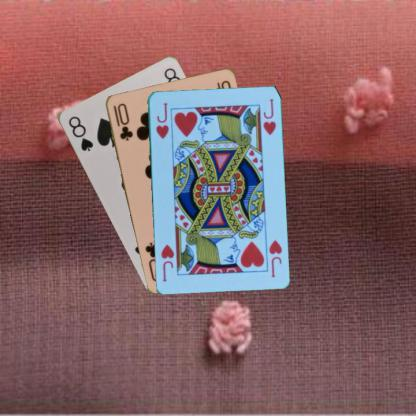10c: (110, 100, 134, 142)
8s: (65, 113, 94, 153)
Jh: (266, 237, 283, 278), (153, 100, 170, 140)
